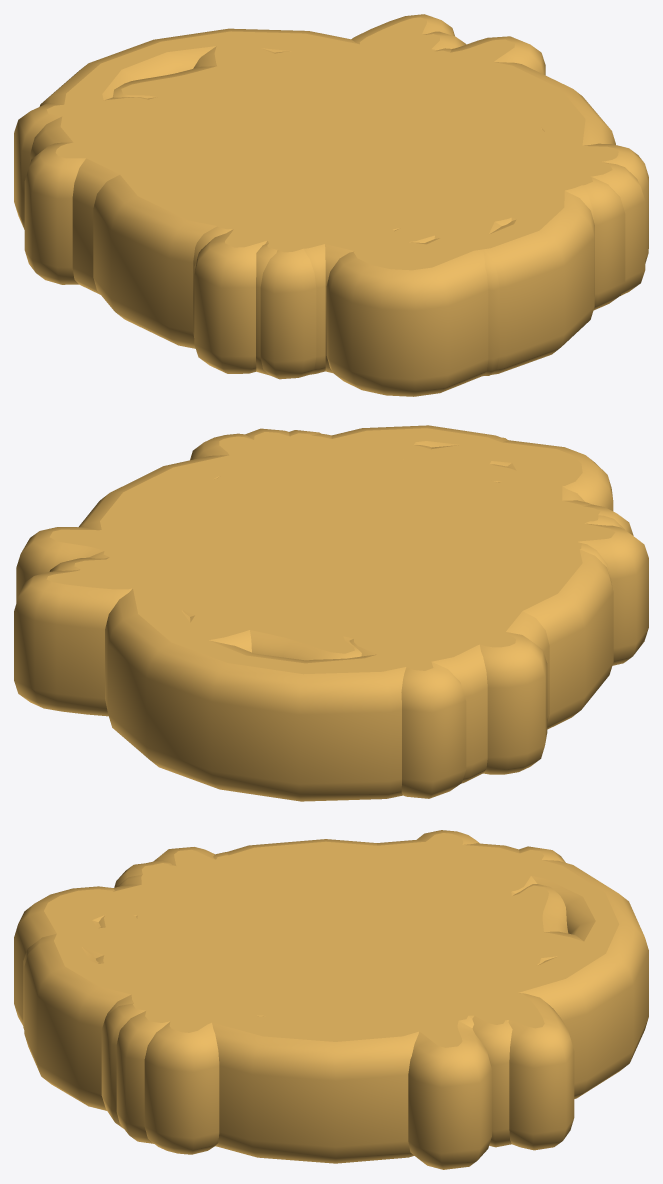
The model's file is AlphaBits.fbx.
3 renders of one model, top to bottom at view 1: azimuth 30°, elevation 25°; view 2: azimuth 150°, elevation 25°; view 3: azimuth 270°, elevation 25°, orthographic. The views are drawn at different scales.
Parts seen in each view (by area): view 1: Alpha_J, Alpha_U, Alpha_G, Alpha_M, Alpha_Q, Alpha_N, Alpha_W, Alpha_D, Alpha_A, Alpha_F, Alpha_K, Alpha_B (+14 smaller); view 2: Alpha_Q, Alpha_M, Alpha_W, Alpha_G, Alpha_D, Alpha_A, Alpha_J, Alpha_B, Alpha_C, Alpha_U, Alpha_H, Alpha_O (+14 smaller); view 3: Alpha_D, Alpha_M, Alpha_Q, Alpha_W, Alpha_U, Alpha_N, Alpha_K, Alpha_A, Alpha_H, Alpha_C, Alpha_B, Alpha_G (+14 smaller).
Part boxes in pixels (x1=…): Alpha_J: x1=230, y1=50, x2=501, y2=396; Alpha_U: x1=137, y1=68, x2=594, y2=376; Alpha_G: x1=93, y1=76, x2=471, y2=348; Alpha_M: x1=14, y1=14, x2=648, y2=373; Alpha_Q: x1=30, y1=28, x2=594, y2=294; Alpha_N: x1=105, y1=31, x2=625, y2=379; Alpha_W: x1=24, y1=36, x2=545, y2=284; Alpha_D: x1=166, y1=51, x2=615, y2=236; Alpha_A: x1=193, y1=40, x2=559, y2=337; Alpha_F: x1=139, y1=54, x2=465, y2=243; Alpha_K: x1=129, y1=39, x2=645, y2=295; Alpha_B: x1=144, y1=63, x2=543, y2=239; Alpha_Q: x1=105, y1=433, x2=549, y2=801; Alpha_M: x1=14, y1=433, x2=648, y2=798; Alpha_W: x1=16, y1=433, x2=556, y2=774; Alpha_G: x1=195, y1=471, x2=613, y2=729; Alpha_D: x1=78, y1=449, x2=536, y2=630; Alpha_A: x1=186, y1=462, x2=611, y2=652; Alpha_J: x1=156, y1=440, x2=613, y2=620; Alpha_B: x1=168, y1=453, x2=546, y2=637; Alpha_C: x1=187, y1=469, x2=574, y2=633; Alpha_U: x1=133, y1=425, x2=584, y2=618; Alpha_H: x1=87, y1=436, x2=624, y2=651; Alpha_O: x1=140, y1=463, x2=535, y2=620; Alpha_D: x1=144, y1=892, x2=507, y2=1163; Alpha_M: x1=144, y1=846, x2=574, y2=1154; Alpha_Q: x1=106, y1=840, x2=648, y2=1098; Alpha_W: x1=84, y1=830, x2=491, y2=1169; Alpha_U: x1=24, y1=865, x2=424, y2=1110; Alpha_N: x1=101, y1=863, x2=512, y2=1147; Alpha_K: x1=116, y1=878, x2=510, y2=1143; Alpha_A: x1=213, y1=852, x2=590, y2=1013; Alpha_H: x1=146, y1=860, x2=512, y2=1017; Alpha_C: x1=147, y1=845, x2=514, y2=978; Alpha_B: x1=137, y1=887, x2=509, y2=1002; Alpha_G: x1=161, y1=839, x2=497, y2=986.
Bounding box in the file's own units: 78.3 × 18 × 87.1.
